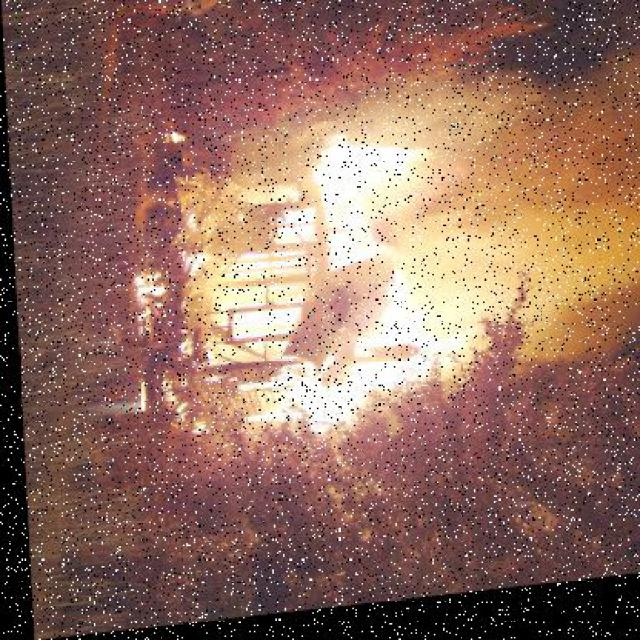fire: (149, 131, 447, 454)
